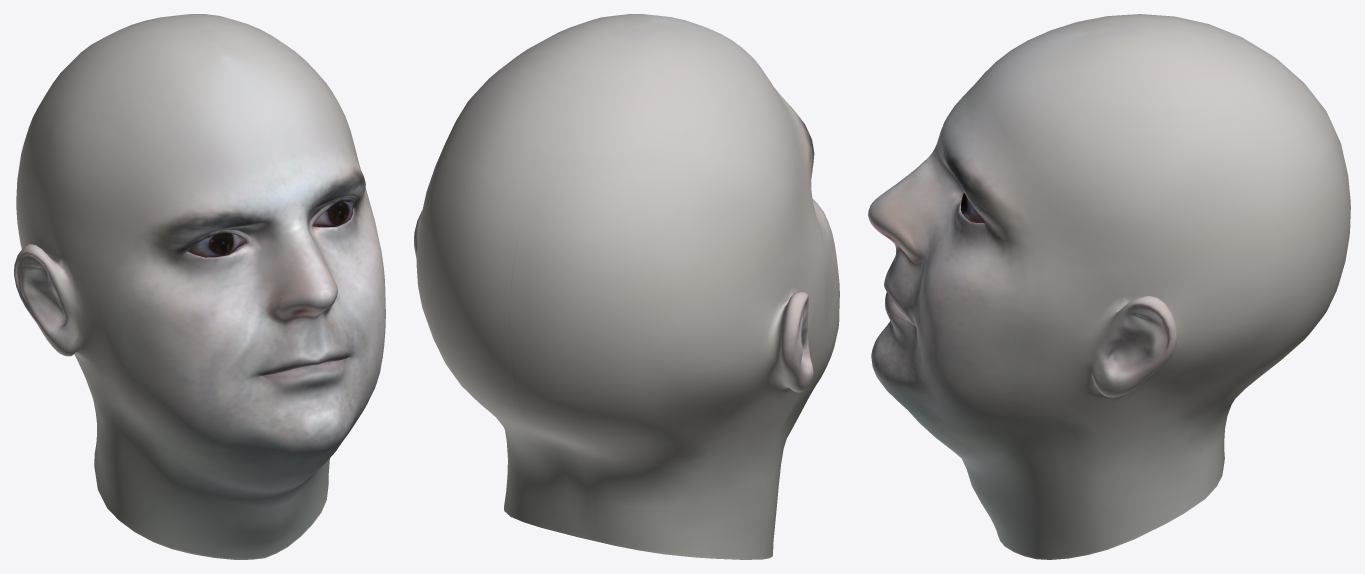
The picture shows the model from 3 angles, left to right: view 1: azimuth 30°, elevation 25°; view 2: azimuth 150°, elevation 25°; view 3: azimuth 270°, elevation 25°; orthographic projection. The views are drawn at different scales.
Visible parts, largest first — view 1: skin_hi, eyeR_hi, eyeL_hi; view 2: skin_hi; view 3: skin_hi.
Boxes of the visible parts, x1,y1,x2,y2 form: skin_hi: (14, 14, 385, 559); eyeR_hi: (188, 233, 244, 257); eyeL_hi: (312, 200, 352, 227); skin_hi: (414, 14, 839, 559); skin_hi: (868, 14, 1350, 559).
Bounding box in the file's own units: 203 × 276 × 238.
